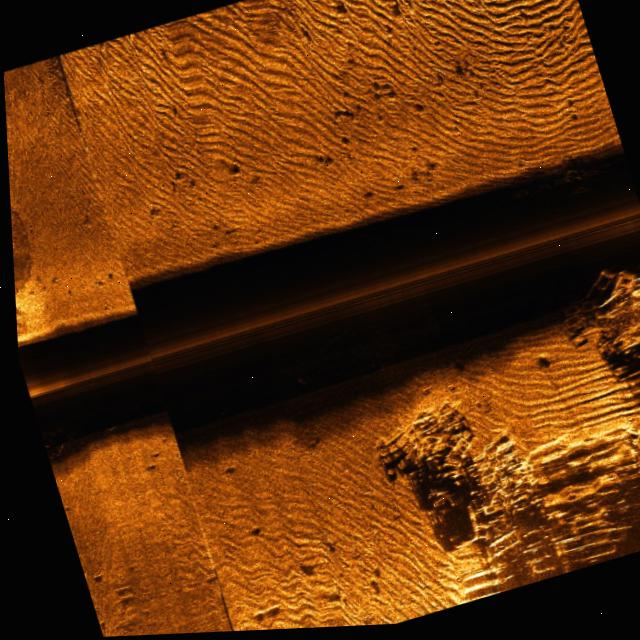artificial reef: (357, 385, 539, 545), (543, 260, 640, 402), (501, 157, 633, 227)
